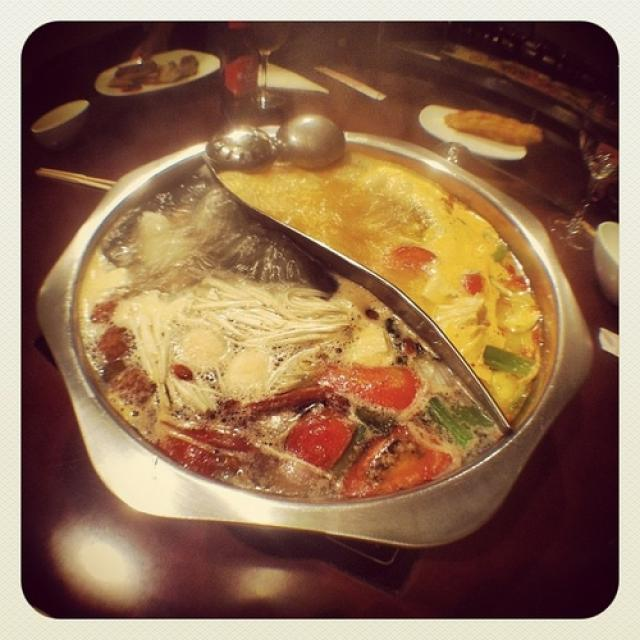汤锅炖物: (58, 122, 570, 532)
